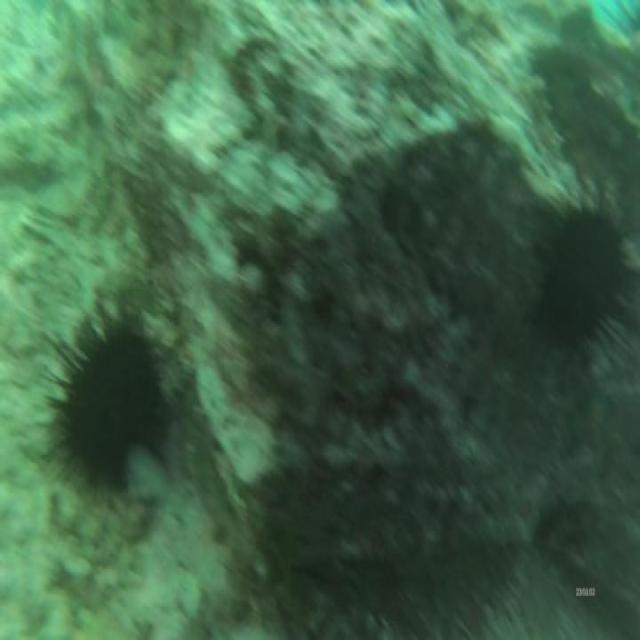echinus: (67, 336, 157, 486), (540, 204, 622, 340)
